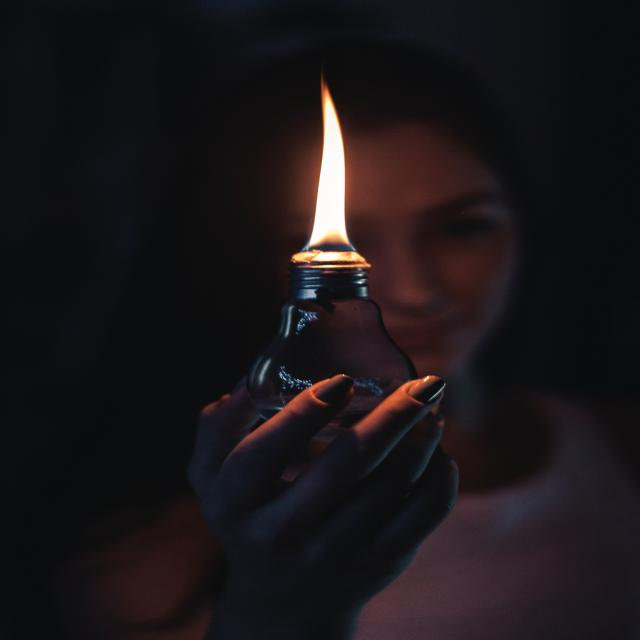fire: (263, 58, 380, 261)
